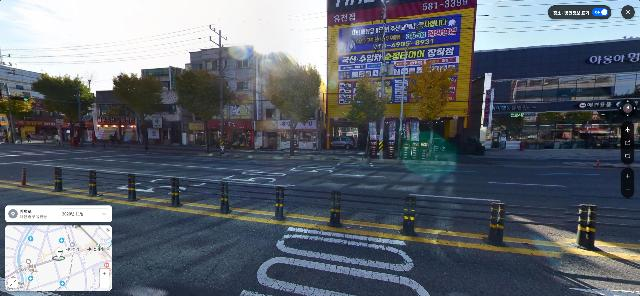ginkgo: (406, 63, 460, 147)
other: (264, 59, 324, 152), (174, 65, 237, 151), (30, 72, 95, 145), (111, 70, 165, 147), (346, 75, 390, 157)
